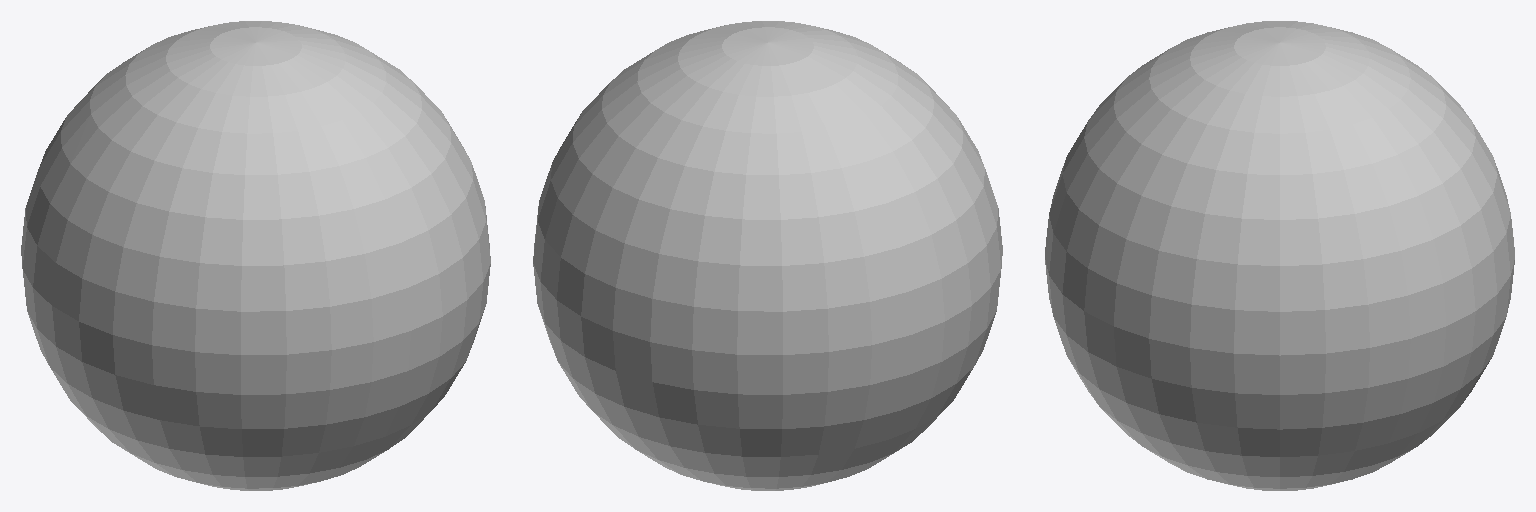
The model's file is small-sphere.obj.
3 views of the same model, side by side, from view 1: azimuth 30°, elevation 25°; view 2: azimuth 150°, elevation 25°; view 3: azimuth 270°, elevation 25° (orthographic).
Parts seen in each view (by area): view 1: Sphere; view 2: Sphere; view 3: Sphere.
Part boxes in pixels (left/top/right/bottom): Sphere: left=21, top=21, right=490, bottom=490; Sphere: left=533, top=21, right=1002, bottom=490; Sphere: left=1045, top=21, right=1514, bottom=490.
Bounding box in the file's own units: 0.4508 × 0.4508 × 0.4508.